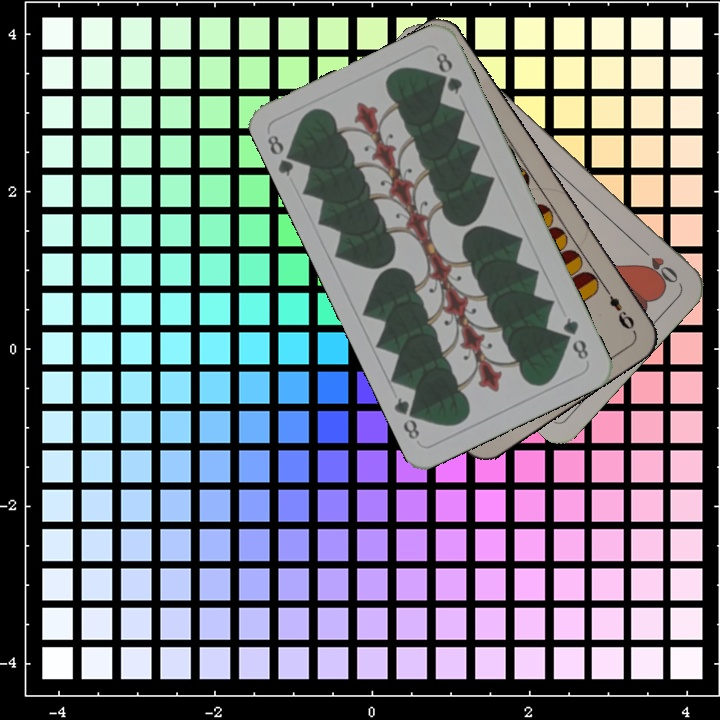E9: (599, 282, 637, 333)
G8: (263, 130, 302, 179), (558, 313, 592, 363)
HO: (634, 241, 681, 286)
